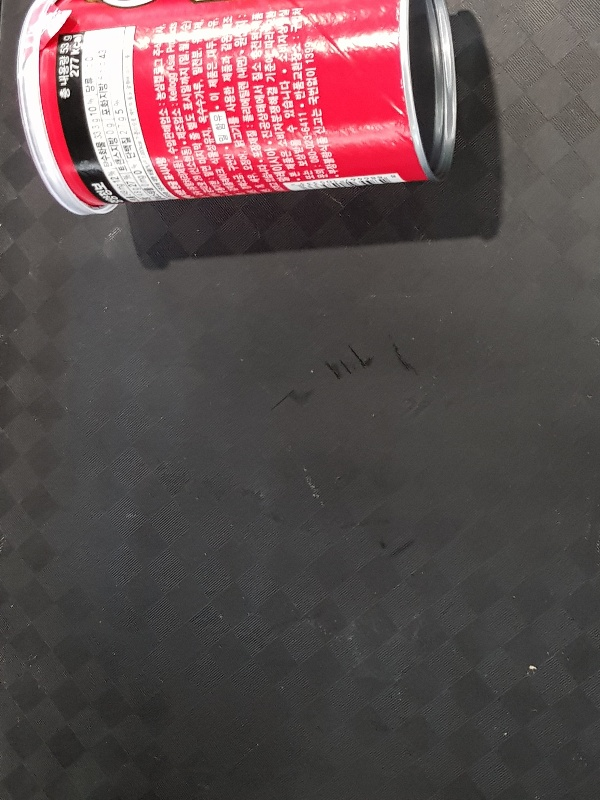Pringles Original: (16, 1, 457, 218)
